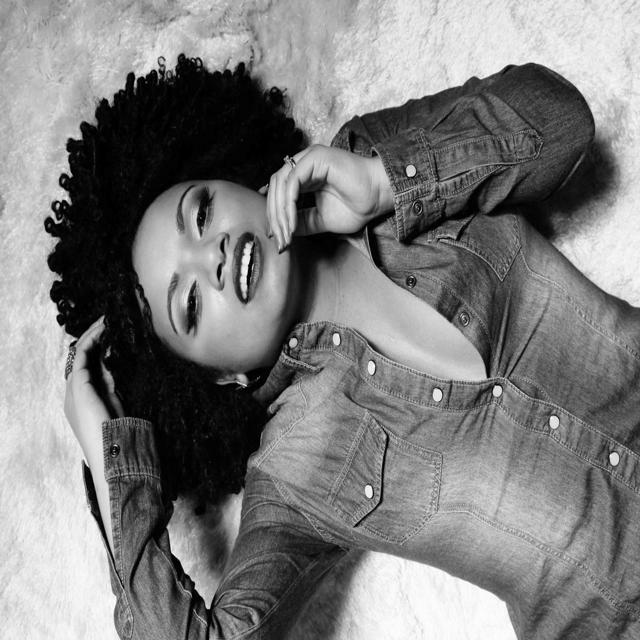Happiness: (127, 173, 300, 377)
